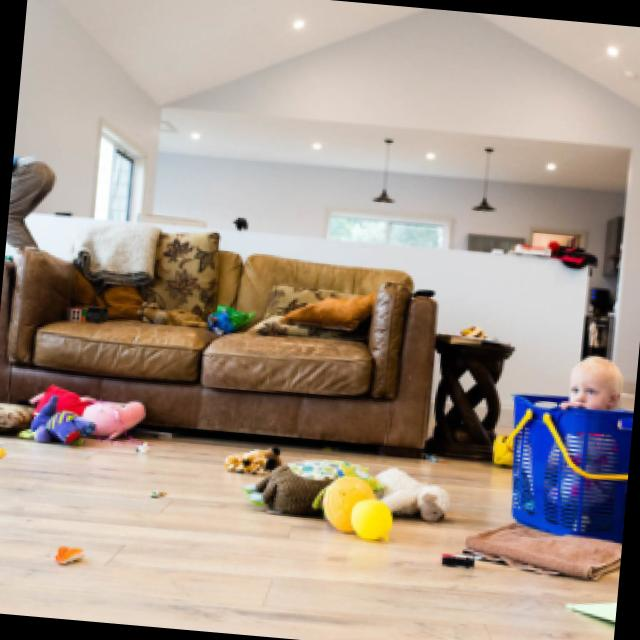mess: (0, 377, 512, 619), (58, 220, 384, 394)
